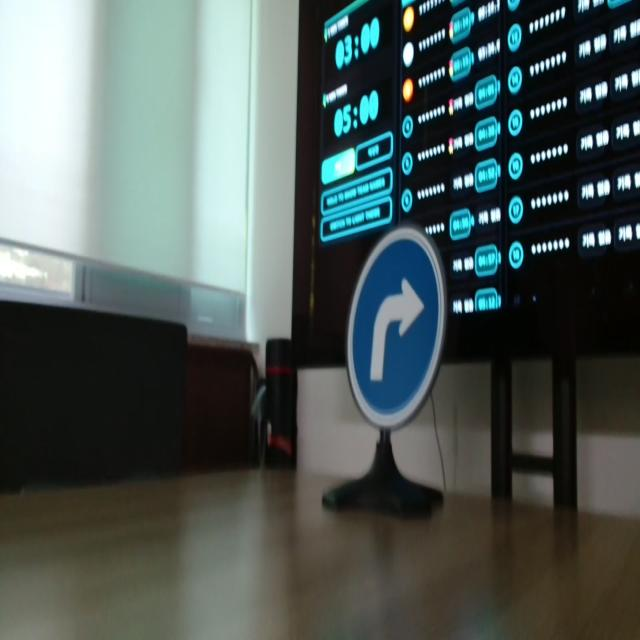right_dierection: (341, 221, 448, 432)
